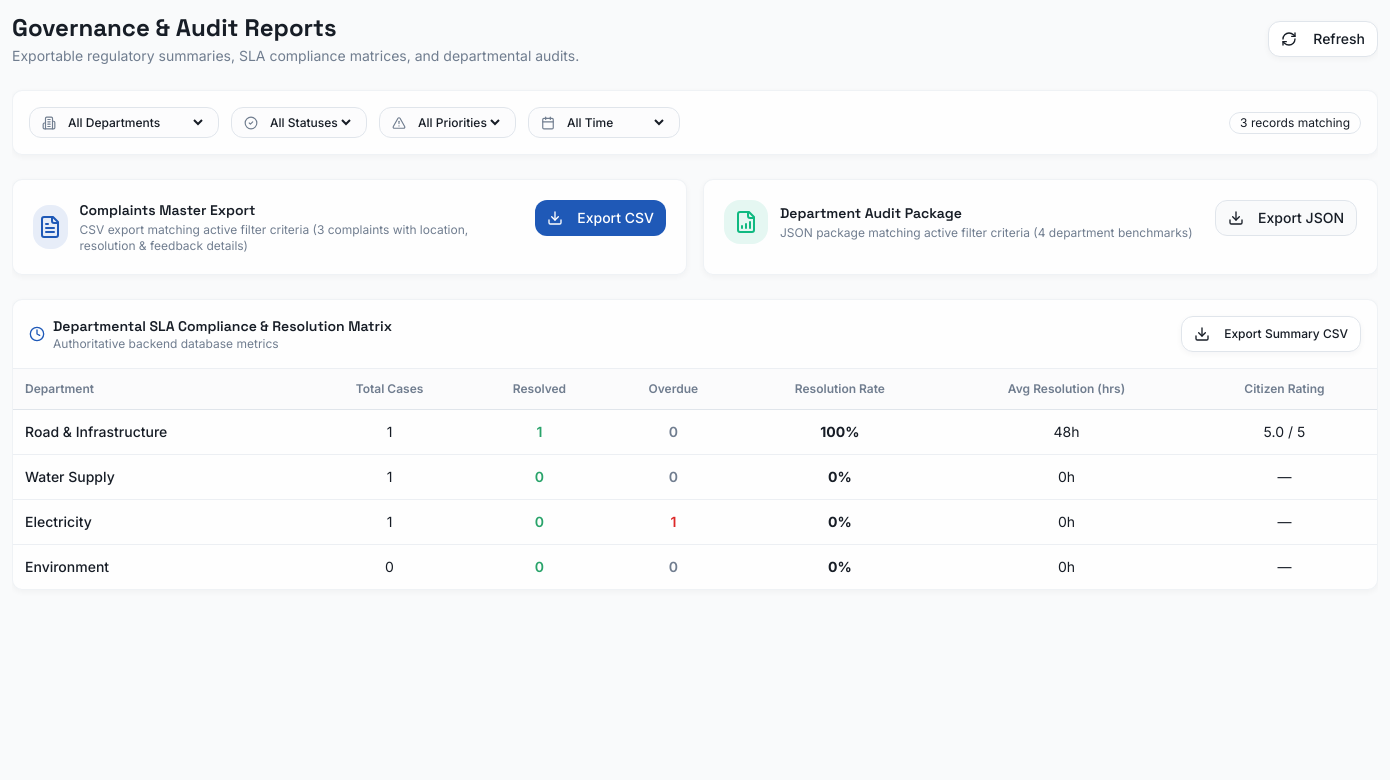
Test: AdminReports Interactive Filtering & Export Suite (Phase 5F) › filters by priority correctly
The image size is (1390, 780).
Check: the text "3 records matching" is shown, box 1229,112 -> 1361,134
Select "Critical" in the dropdown named "Priority Filter": (458, 122) 414,114 -> 503,131
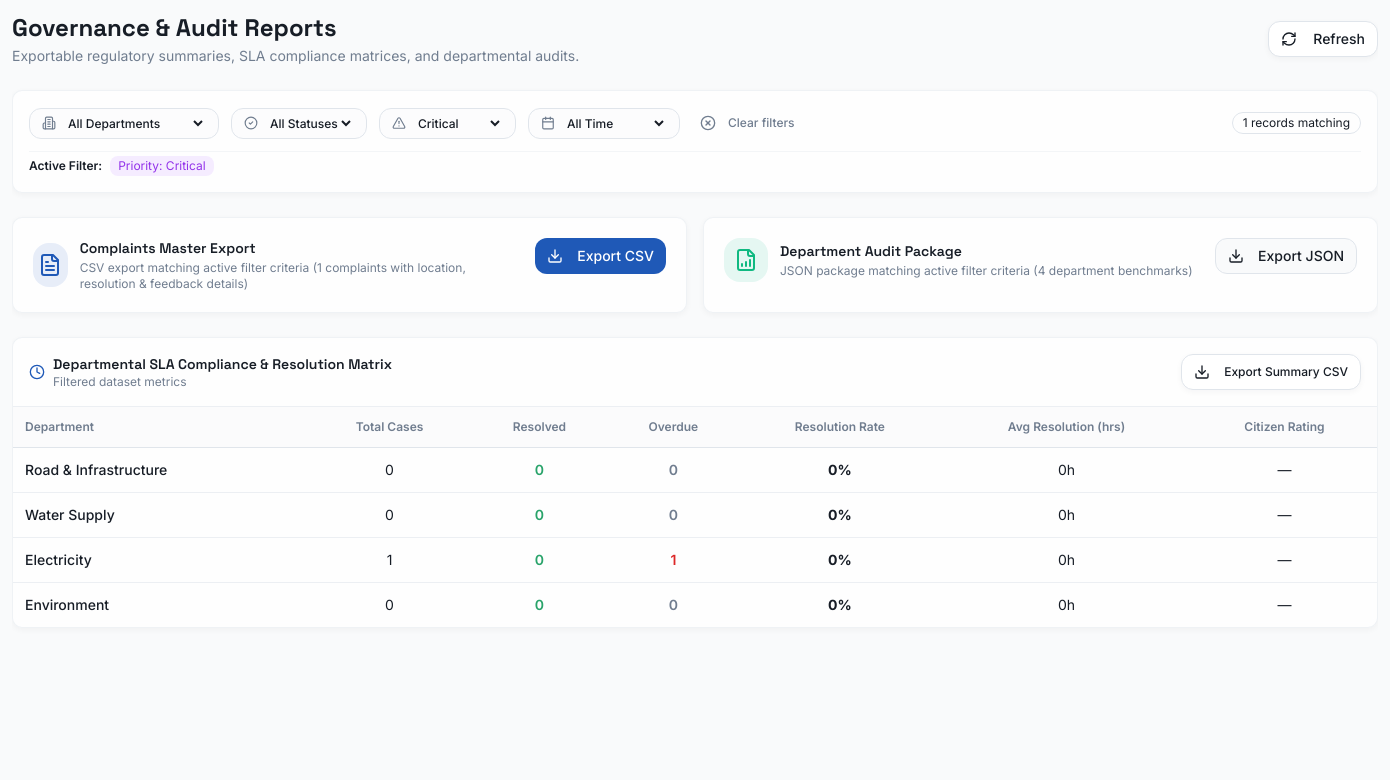
Check: the text "1 records matching" is shown, box 1232,112 -> 1361,134
Check: the text "Priority: Critical" is shown, box 110,156 -> 214,176
